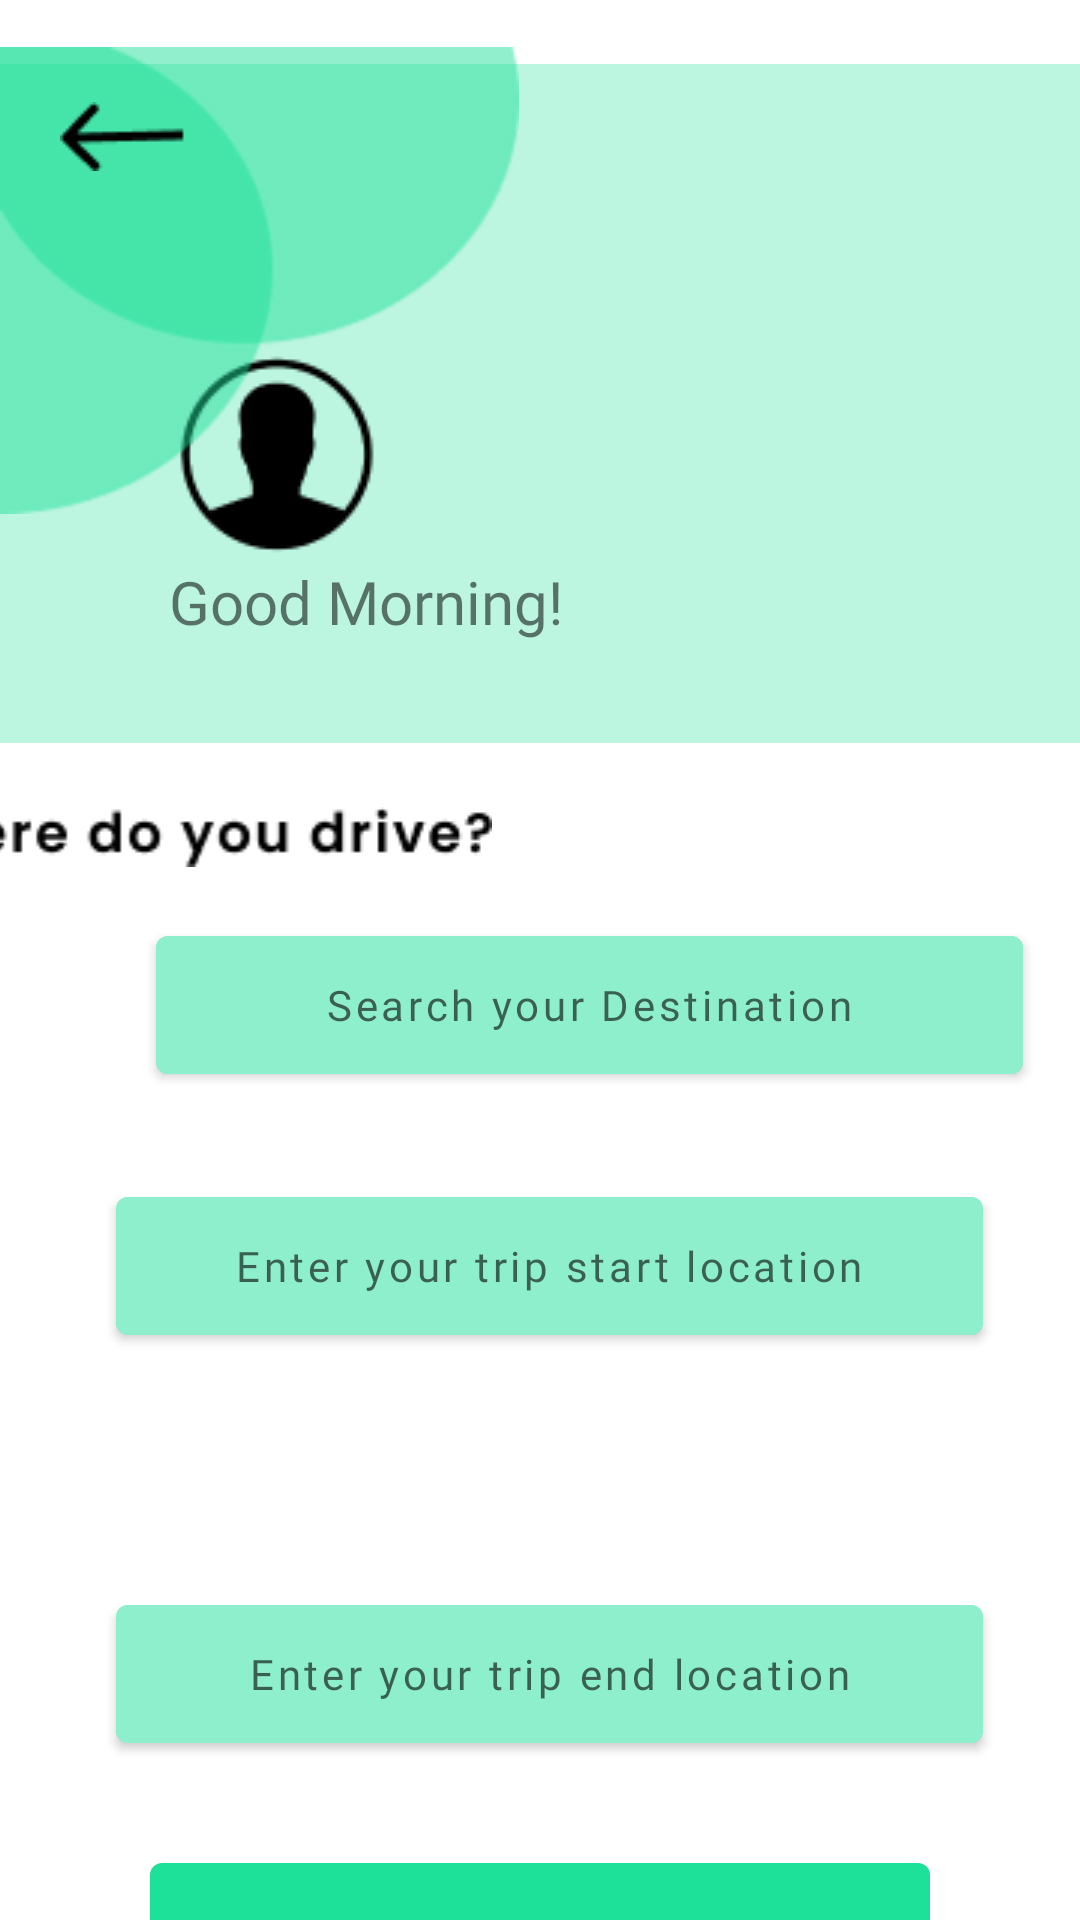

Where icons sit on this 1080 x 1920 app screen, as (x1, y1, x2, y2):
back arrow: (60, 102, 184, 171)
user acc: (160, 348, 374, 551)
